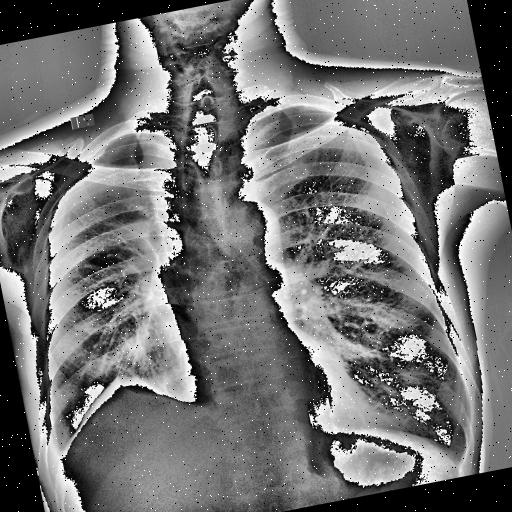0- Aortic enlargement: (198, 192, 286, 272), (222, 193, 284, 261)
10- Pleural effusion: (38, 405, 82, 484), (36, 419, 85, 488)
11- Pleural thickening: (78, 370, 172, 418), (38, 405, 82, 484), (36, 419, 85, 488), (92, 367, 146, 404), (87, 130, 128, 162)
13- Pulmonary fibrosis: (78, 251, 184, 370), (102, 294, 186, 403), (136, 230, 164, 276)
9- Other lesion: (67, 368, 177, 434), (78, 370, 172, 418)
